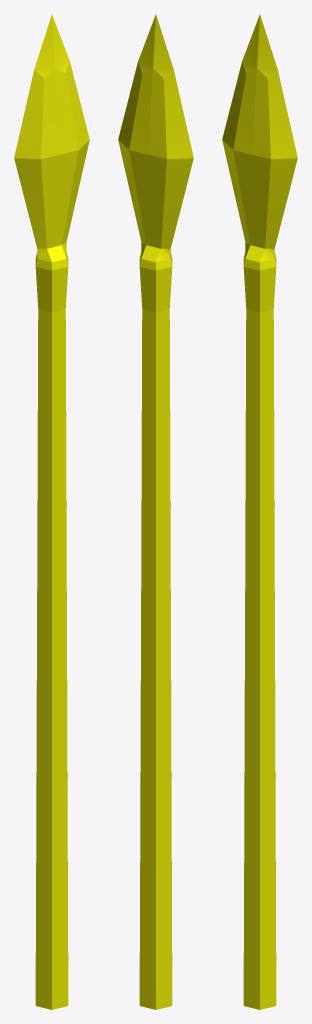
File: Army_Spear.glb
3 views of the same model, side by side, from view 1: azimuth 30°, elevation 25°; view 2: azimuth 150°, elevation 25°; view 3: azimuth 330°, elevation 25° (orthographic).
Visible parts, largest first — view 1: Spear; view 2: Spear; view 3: Spear.
Boxes of the visible parts, box(x1,y1,x2,y2) form: Spear: box(14, 14, 89, 1009); Spear: box(118, 14, 193, 1009); Spear: box(222, 14, 297, 1009).
Bounding box in the file's own units: 0.1365 × 1.7 × 0.051.
1 material, 1 textured.
